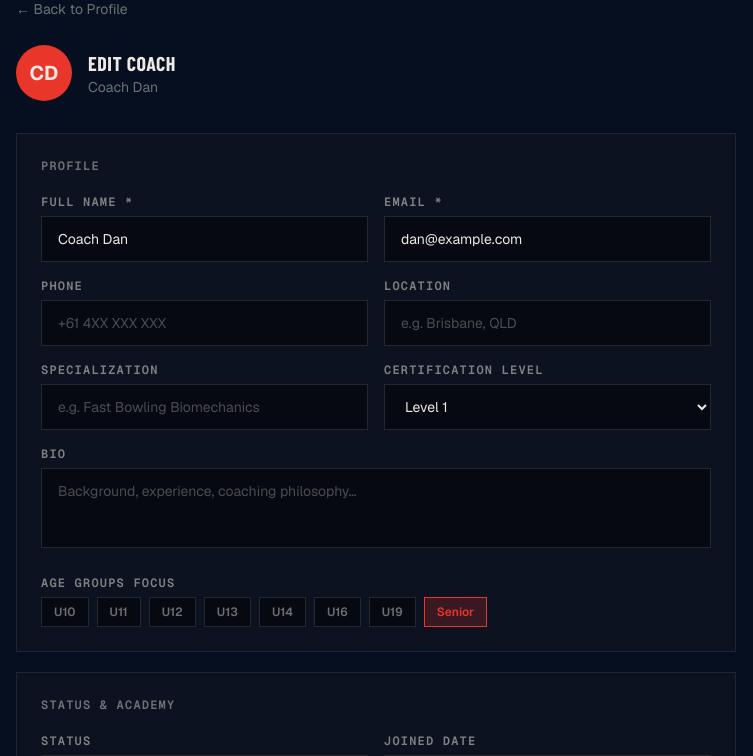
EditCoachForm › pre-fills fields from the coach and saves edits, then redirects to their profile
Replace the text in the field showing "Coach Dan" below "Full Name *" with "Daniel Coach": (204, 239) top-left (41, 216), bottom-right (368, 262)
(page scrolled)
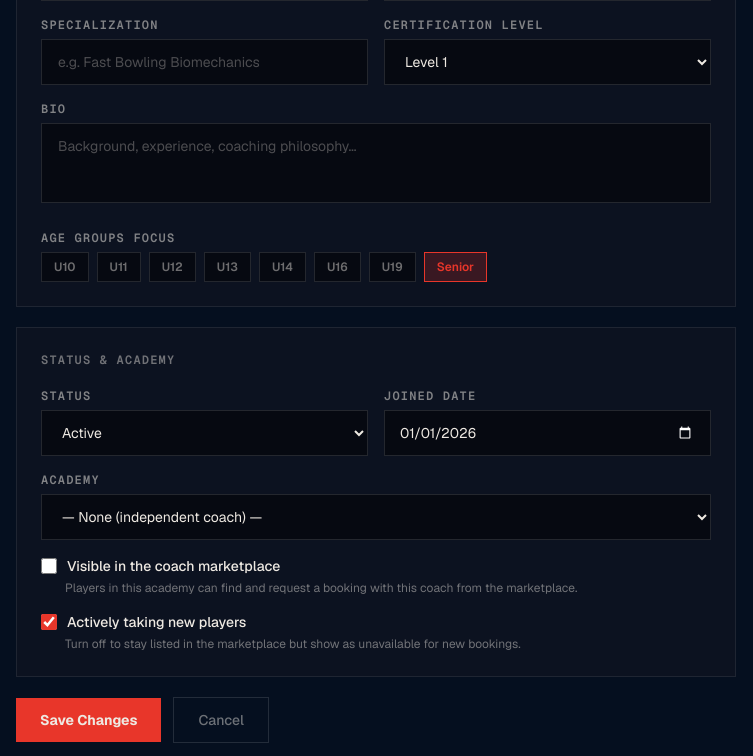
Click the button "Save Changes": (89, 720) top-left (16, 698), bottom-right (161, 742)
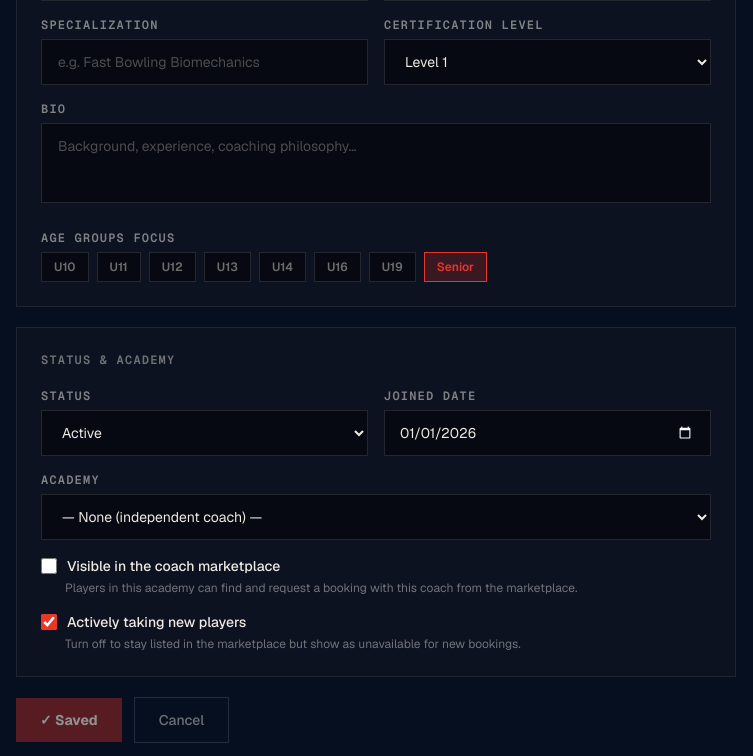
Expected: the button "✓ Saved" is shown, top-left (16, 698), bottom-right (122, 742)
